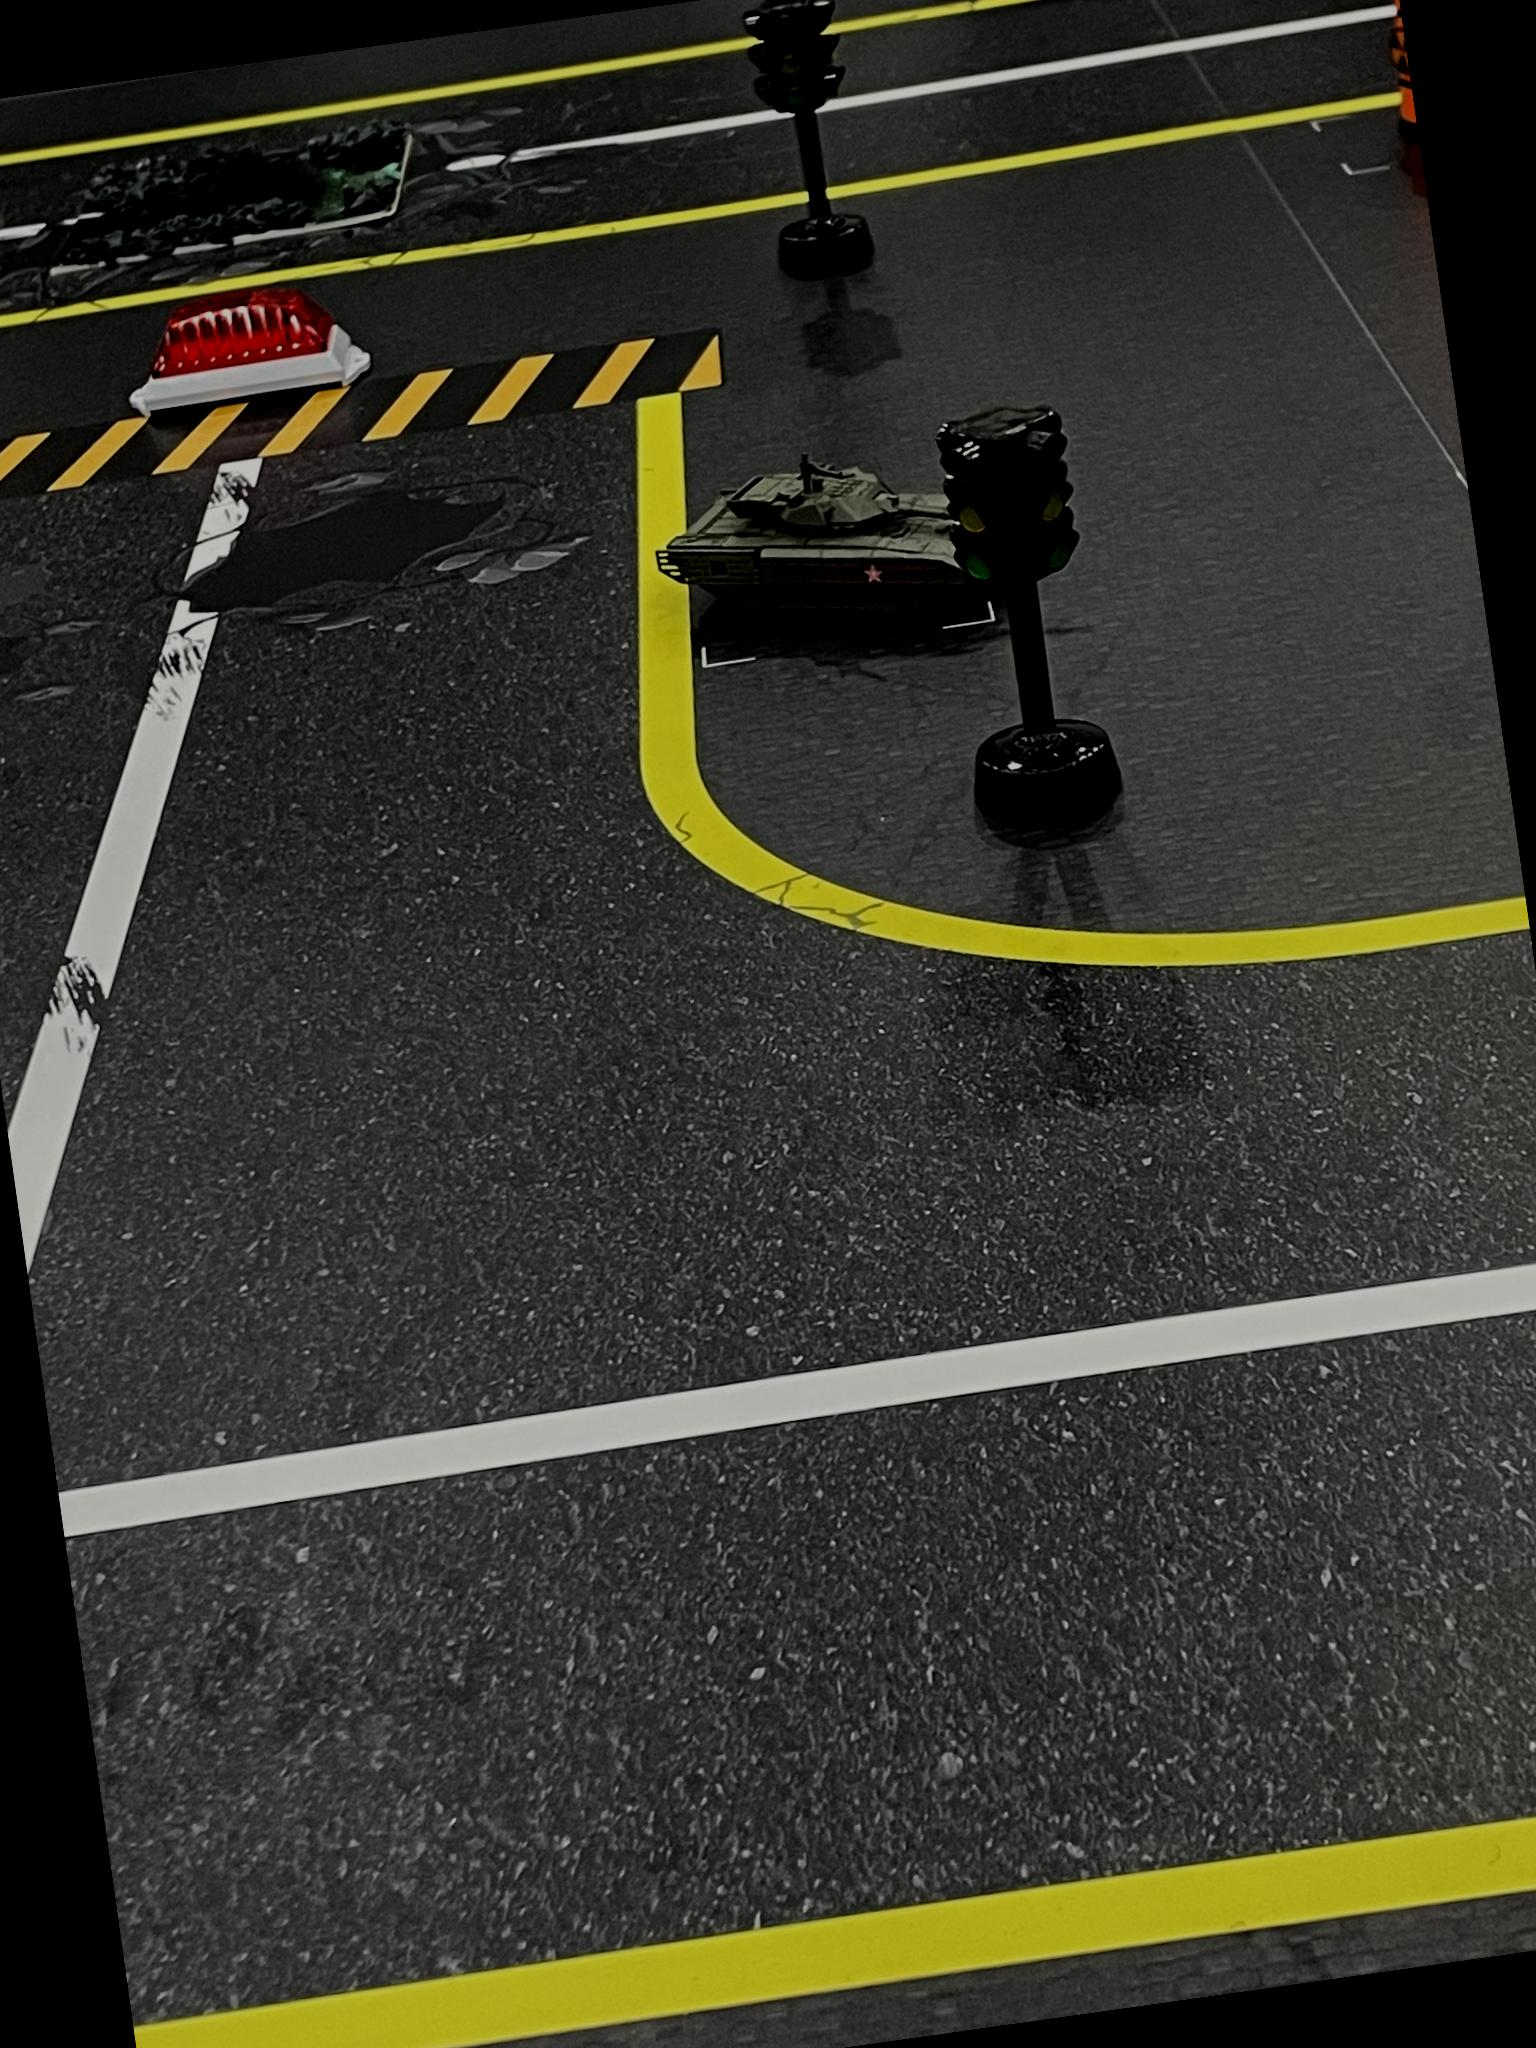Tank: (645, 440, 965, 668)
